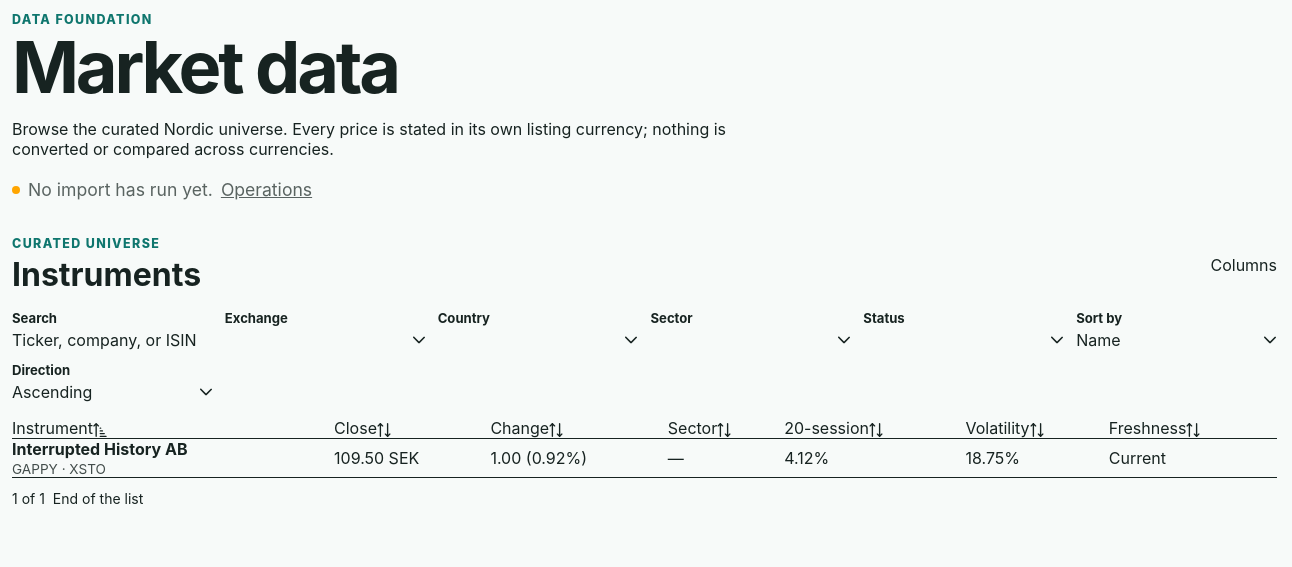
Scenario: MarketsView › keeps the filters visible and intact when the listing request fails
In the search field named "Search instruments": (112, 340) [12,330,213,350], type "ALFA"
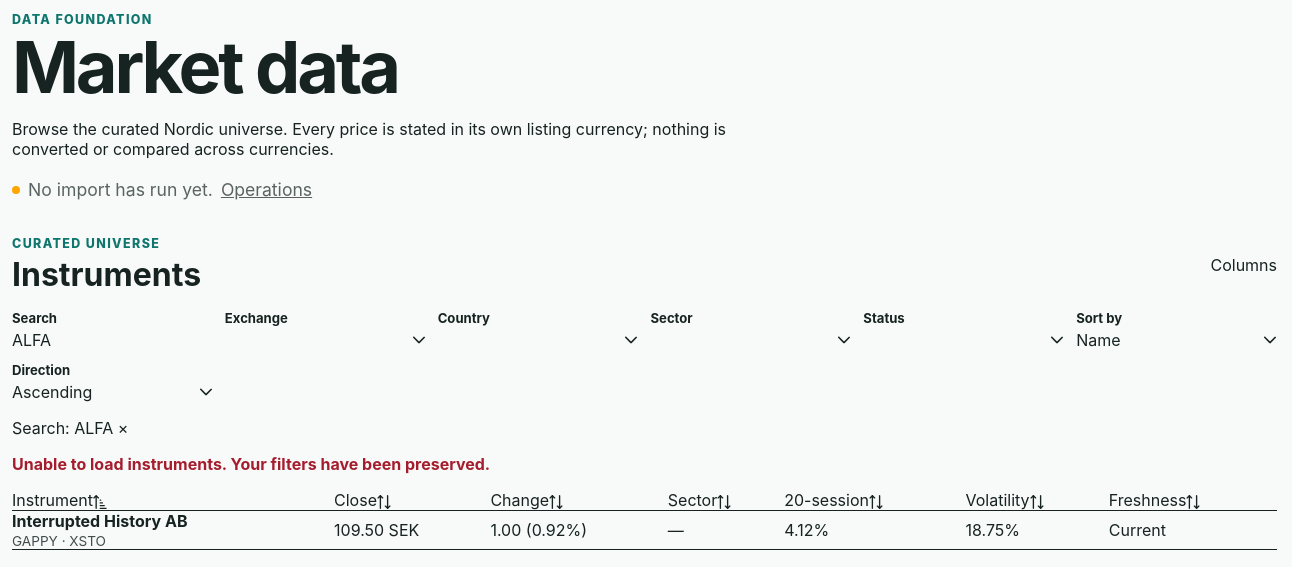
Result: the message "Unable to load instruments. Your filters have been preserved." is shown at [12,454,490,474]
